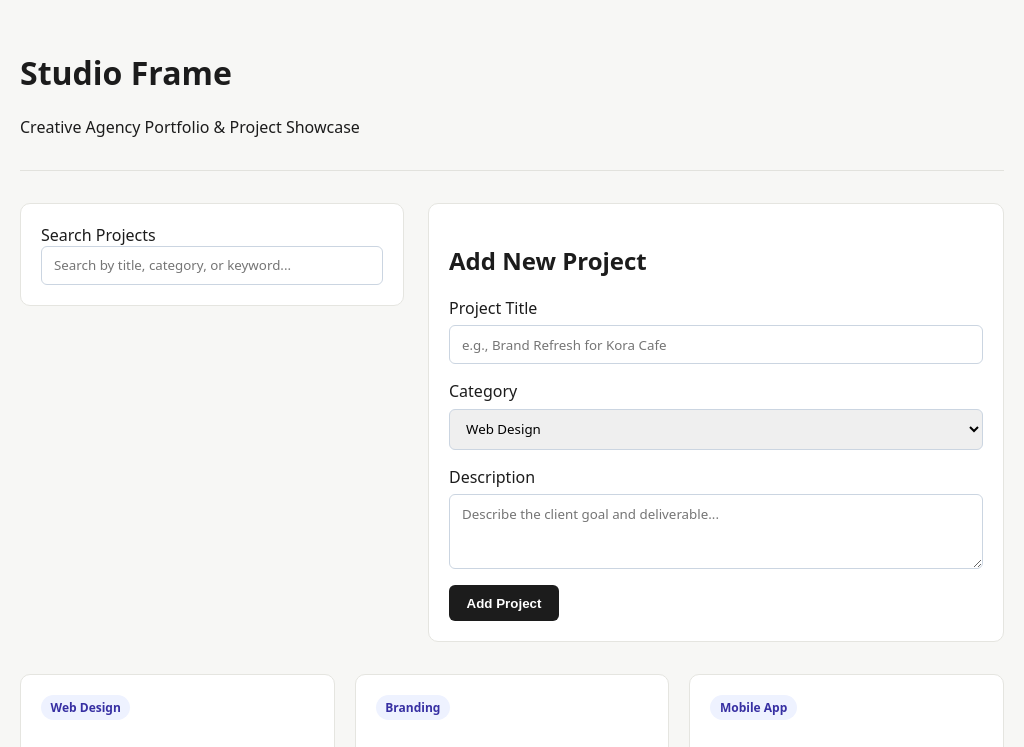
Test: adds a new project dynamically when form is submitted
Type "Lamu Eco Lodge Site" into the field labelled "Project Title". click: (716, 345)
box: [449, 325, 983, 364]
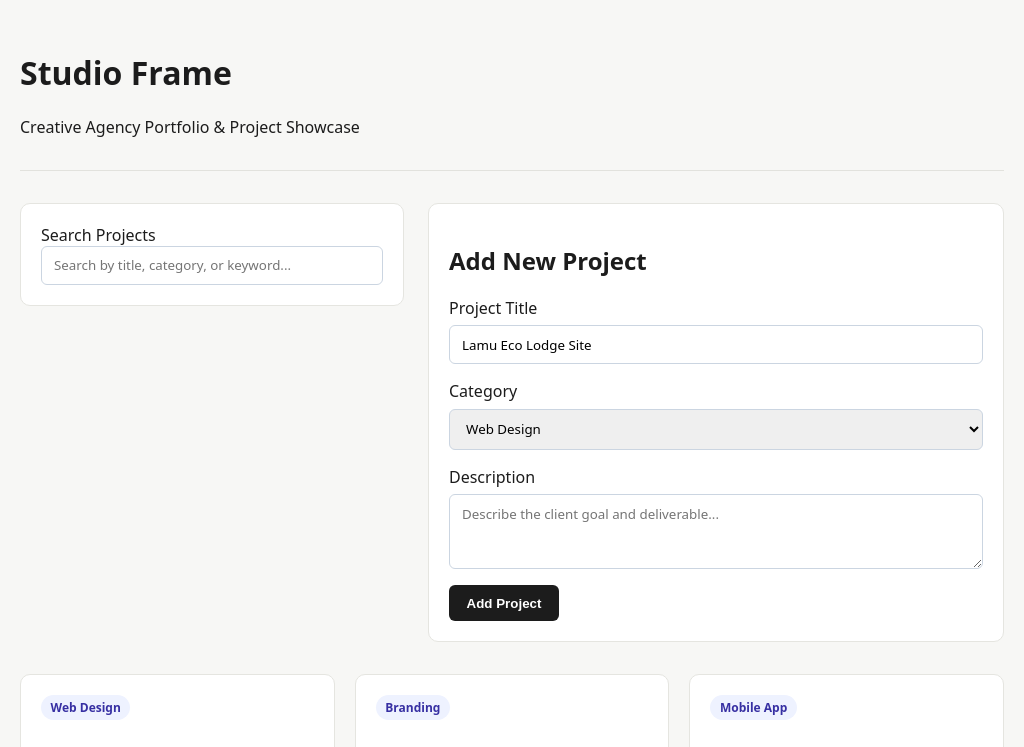
Type "Booking experience and photo story." into the text box labelled "Description". click: (716, 532)
box: [449, 494, 983, 569]
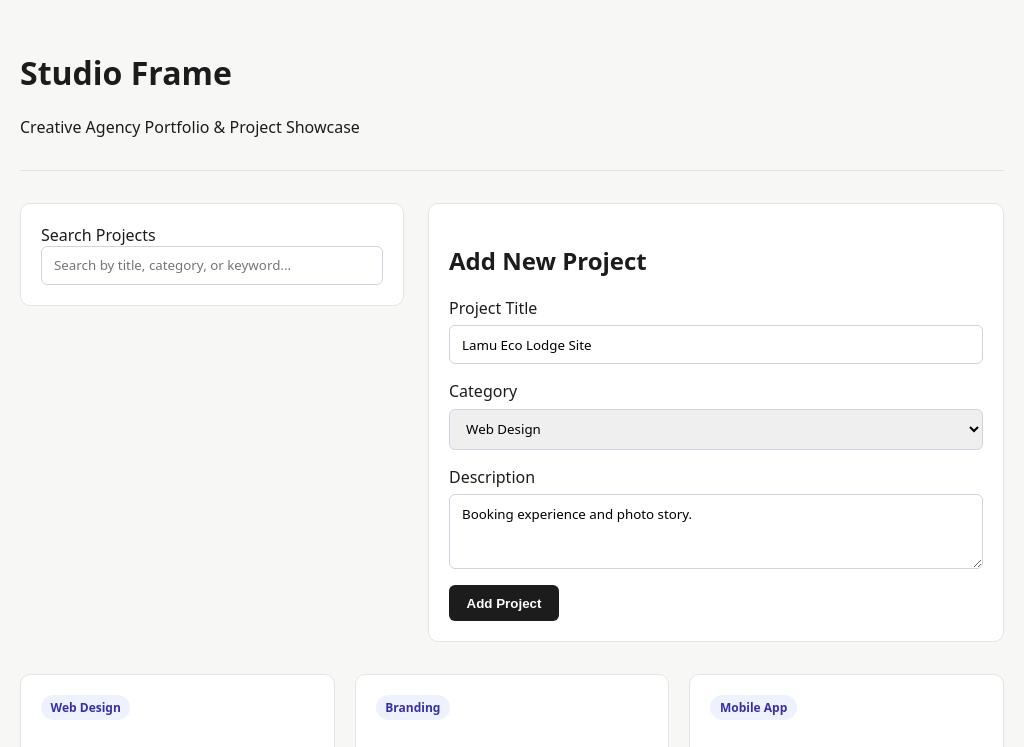
Click the button "Add Project". click: (504, 603)
box: [449, 585, 559, 621]
(page scrolled)
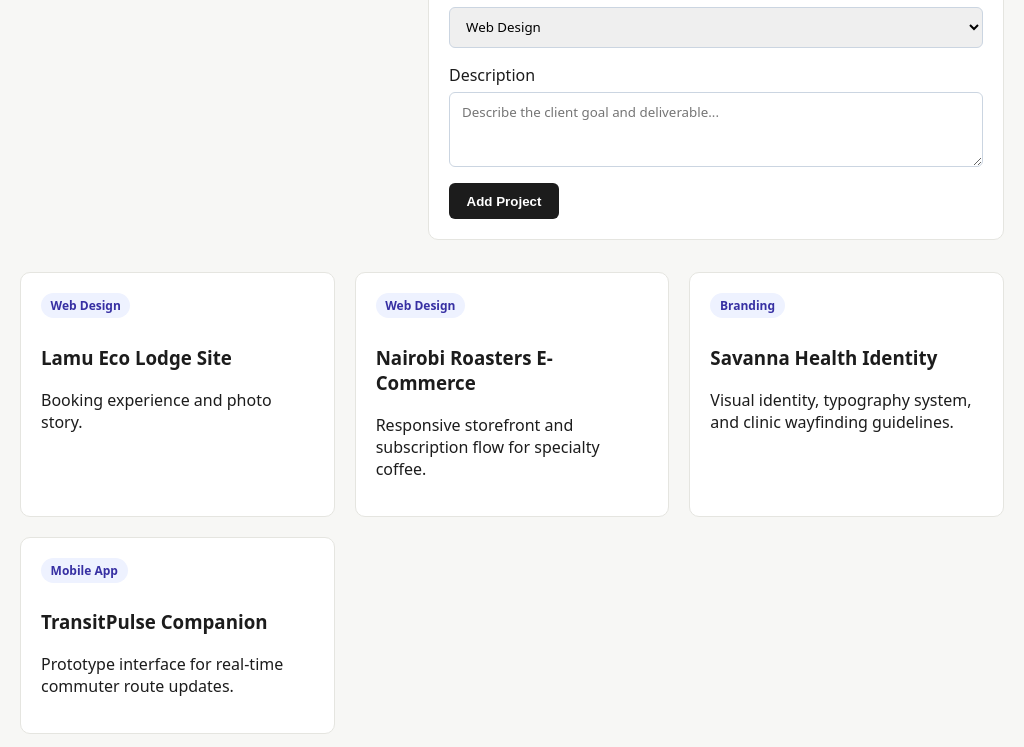
Result: the heading "Lamu Eco Lodge Site" is shown at [41, 345, 232, 370]
Result: the text "Booking experience and photo story." is shown at [41, 389, 272, 433]
